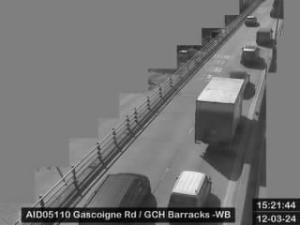truck: (195, 74, 247, 150)
vehicle: (80, 174, 158, 224), (167, 170, 212, 212), (242, 47, 258, 67), (256, 29, 274, 45), (246, 16, 258, 27)
